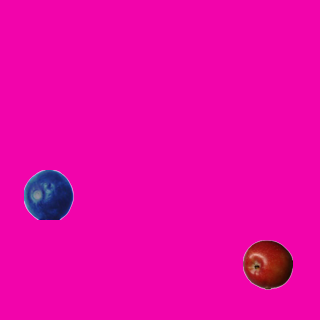Apple Braeburn: (242, 239, 292, 289)
Huckleberry: (23, 169, 73, 219)
